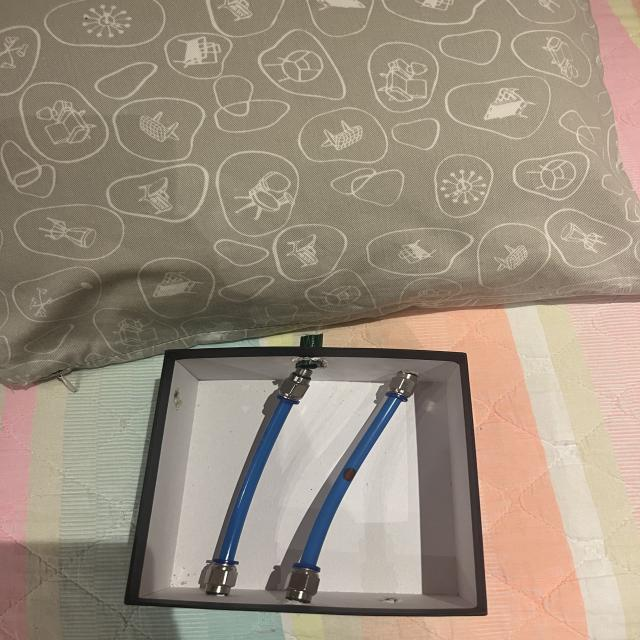hose_damage: (344, 467, 356, 482)
